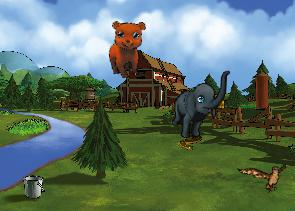bear: (104, 17, 153, 80)
eagle: (237, 150, 294, 201)
elephant: (171, 68, 230, 140)
